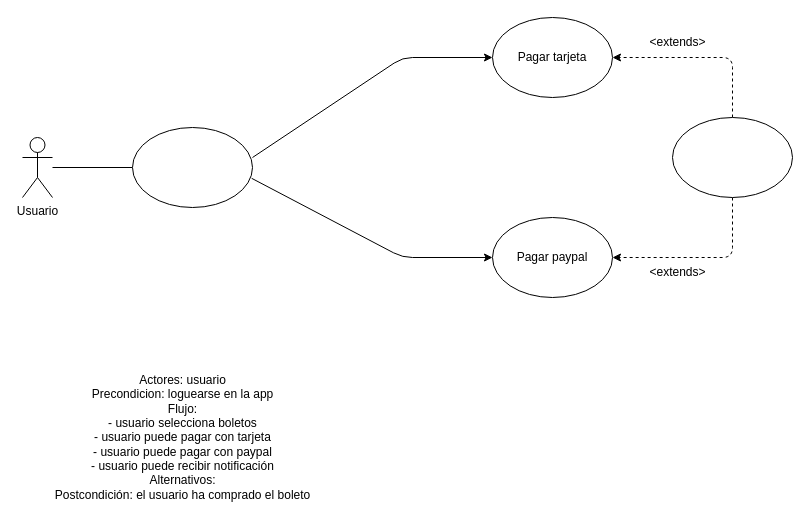
Image size: 810x525. Some labels were removed from this diagram. The shapes that lost their labels are listed below. From the top down, each one's centre as x and y in pixels, then its label:
pixel 192 167: Comprar boletos
pixel 732 157: Notificación
